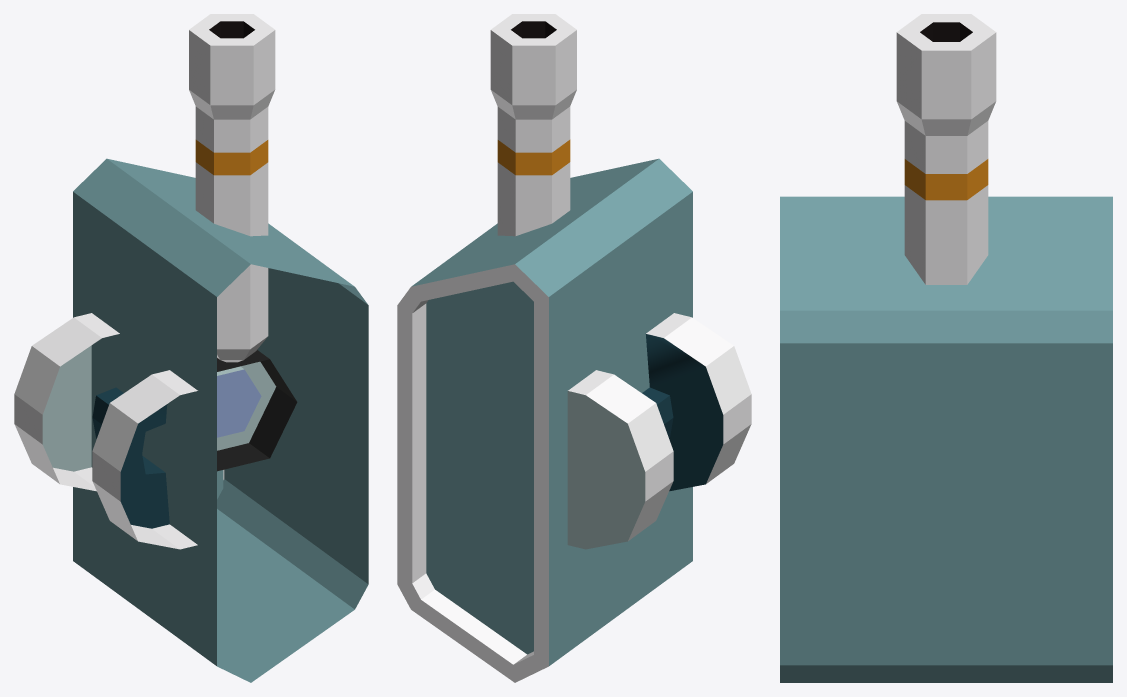
File: tank.fbx
3 views of the same model, side by side, from view 1: azimuth 30°, elevation 25°; view 2: azimuth 150°, elevation 25°; view 3: azimuth 270°, elevation 25° (orthographic). The views are drawn at different scales.
Visible parts, largest first — view 1: Tank, TankBarrel, TankWheel; view 2: Tank, TankBarrel; view 3: Tank, TankBarrel.
Part boxes in pixels (box(x1,y1,x2,y2)): Tank: box(14, 158, 368, 682); TankBarrel: box(189, 14, 275, 362); TankWheel: box(217, 350, 297, 471); Tank: box(397, 158, 751, 682); TankBarrel: box(490, 14, 576, 236); Tank: box(780, 196, 1112, 682); TankBarrel: box(896, 14, 996, 284).
Size of the model in its own units: 49.76 by 122 by 54.33.
1 material, 1 textured.
